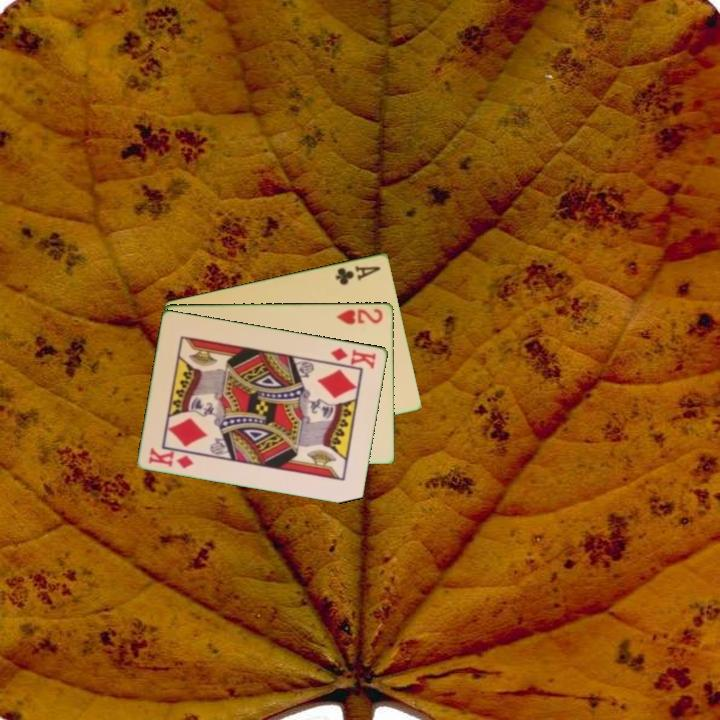2h: (334, 305, 385, 327)
Ac: (332, 262, 383, 287)
Kd: (327, 344, 379, 371), (145, 444, 197, 471)
